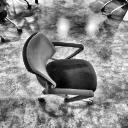chair_success: (20, 31, 100, 107)
